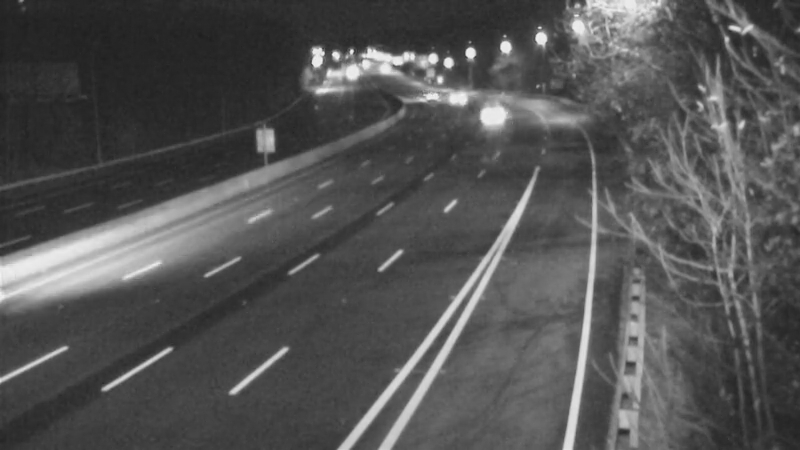vehicle: (358, 44, 408, 94), (410, 71, 460, 121), (431, 64, 481, 114), (464, 84, 514, 134)
